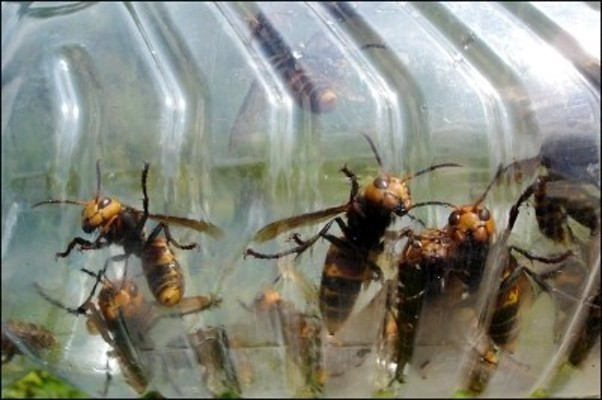asian_giant_hornet: (310, 161, 416, 339), (57, 178, 188, 306), (439, 196, 536, 358), (396, 224, 461, 382), (241, 277, 331, 391), (89, 275, 162, 396)
